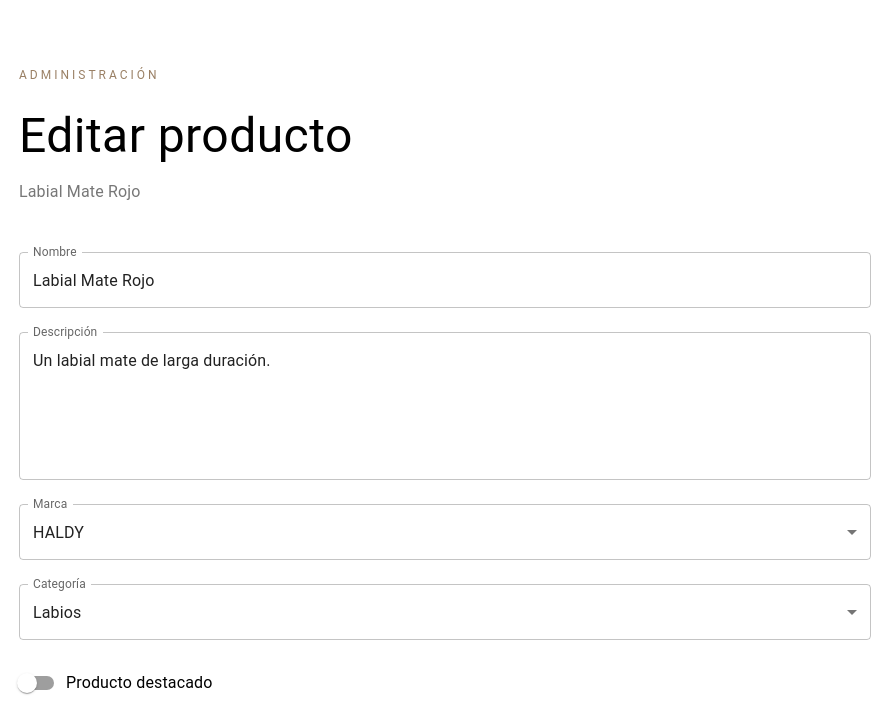
AdminProductEdit › updates the product and navigates to its detail page after showing a success message
Replace the text in the field labelled "Nombre" with "Labial Mate Rojo Intenso" at (445, 280), box [19,252,871,308]
(page scrolled)
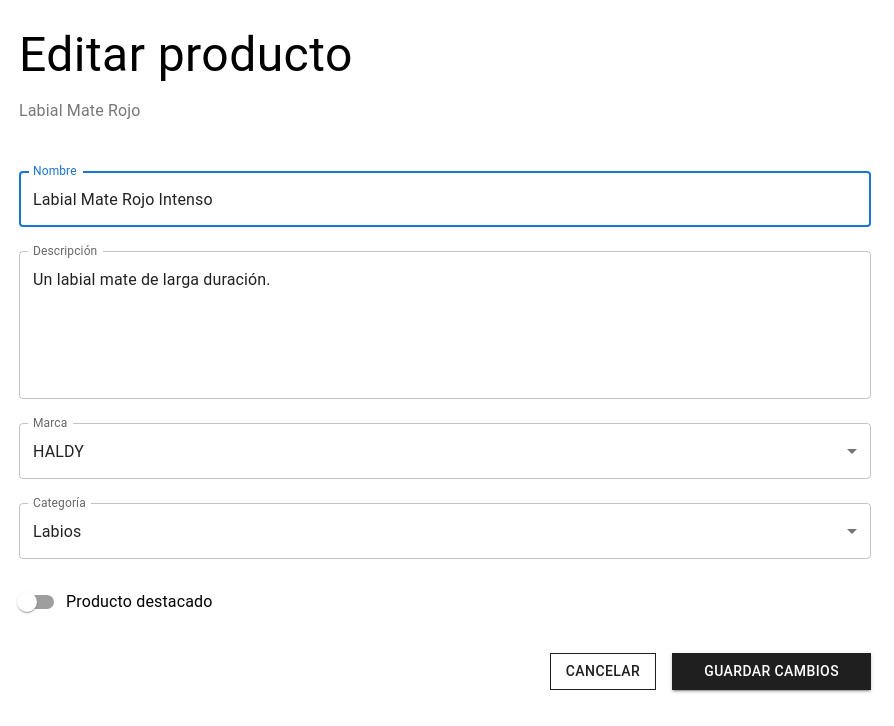
Click the button "Guardar cambios" at (772, 671), box [672,653,871,690]
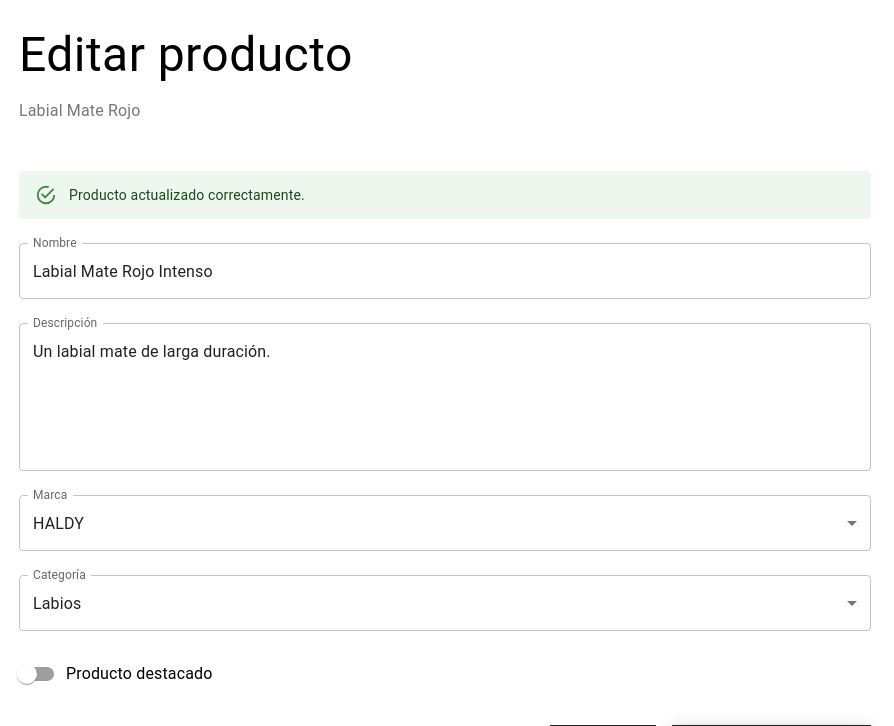
Expected: the text "Producto actualizado correctamente." is shown, [69,187,305,203]
